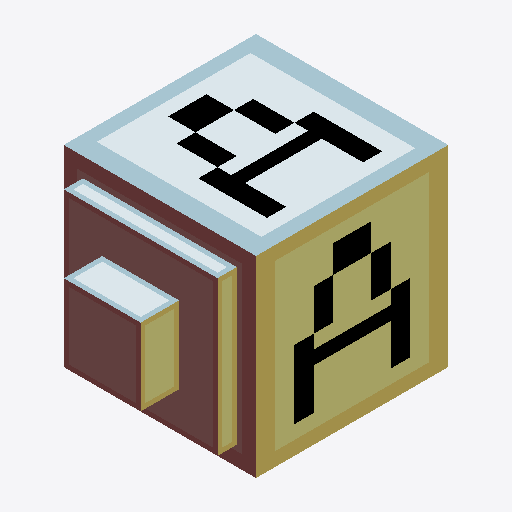
Isometric view (azimuth 45°, elevation 35.3°) of a Minecraft model made of 5 cuboids, textured from the same repository.
Parts seen in each view (by area): element 1, element 2, element 4.
Boxes of the visible parts, x1=… form: element 1: x1=64, y1=34, x2=447, y2=477; element 2: x1=64, y1=179, x2=236, y2=455; element 4: x1=64, y1=256, x2=178, y2=410.
Bounding box in the file's own units: 16 × 10 × 10.